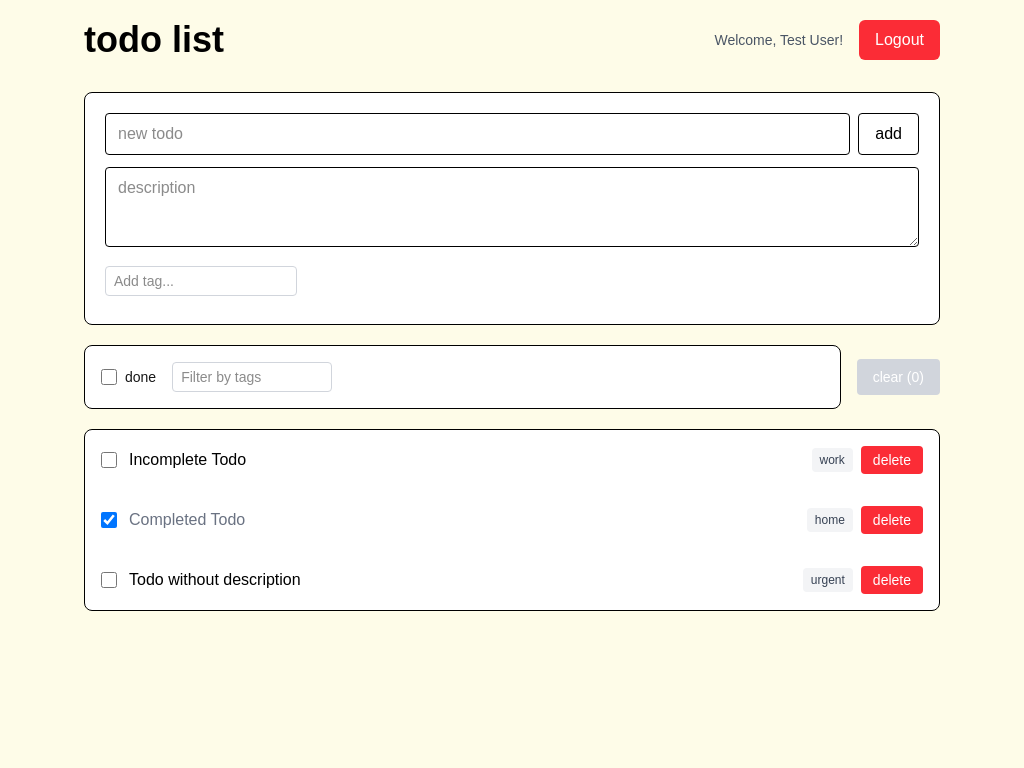
Scenario: Todo App Main Page › Tag filtering › should allow adding tags to filter via input
The image size is (1024, 768).
Expected: the text "Incomplete Todo" is shown, [129, 451, 246, 468]
Type "work" into the field with placeholder "Filter by tags" at coordinates (252, 377), box [172, 362, 332, 392]
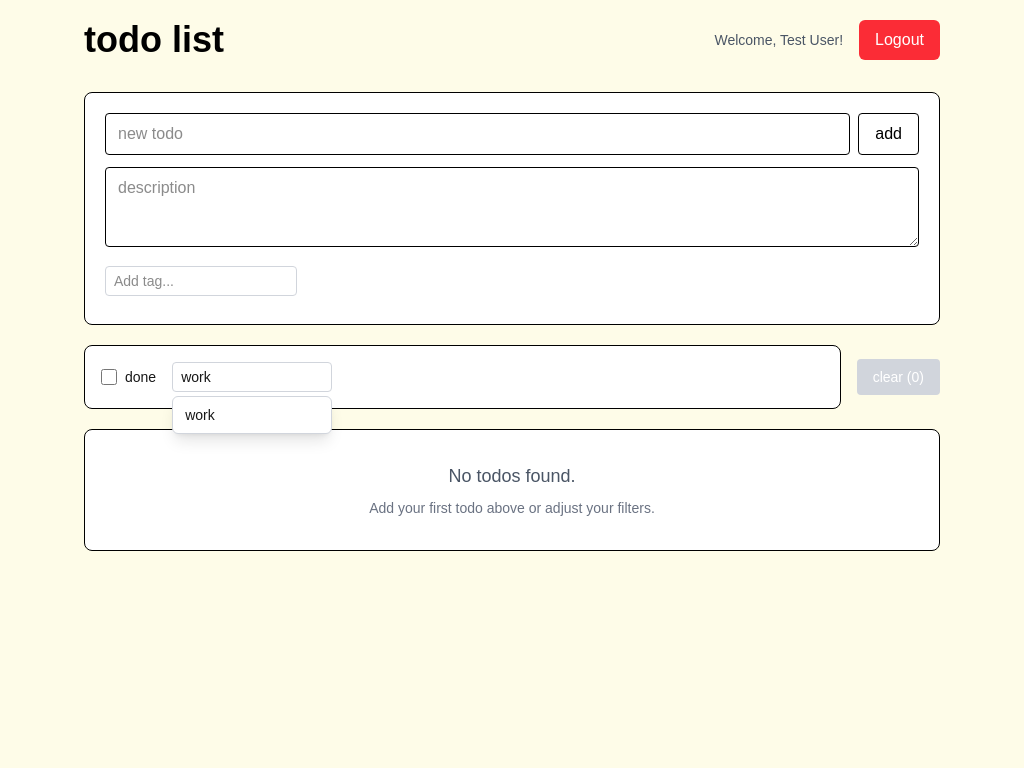
Press Enter in the field with placeholder "Filter by tags", box [172, 362, 332, 392]
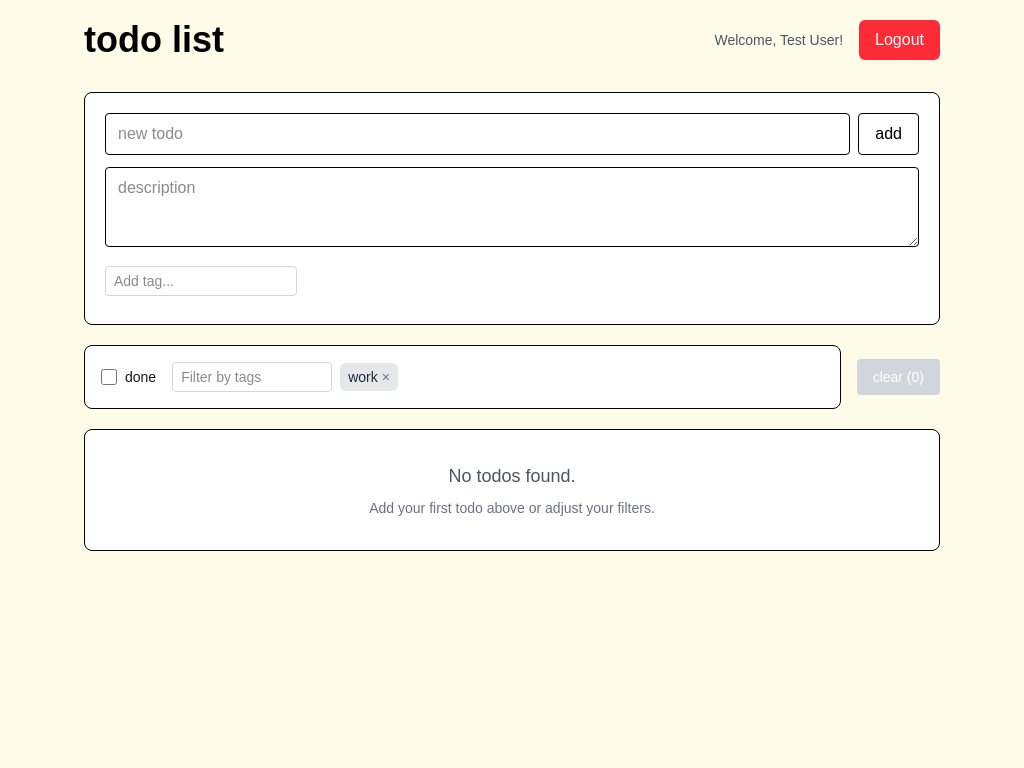
Expected: the text "work" is shown, [348, 369, 378, 385]
